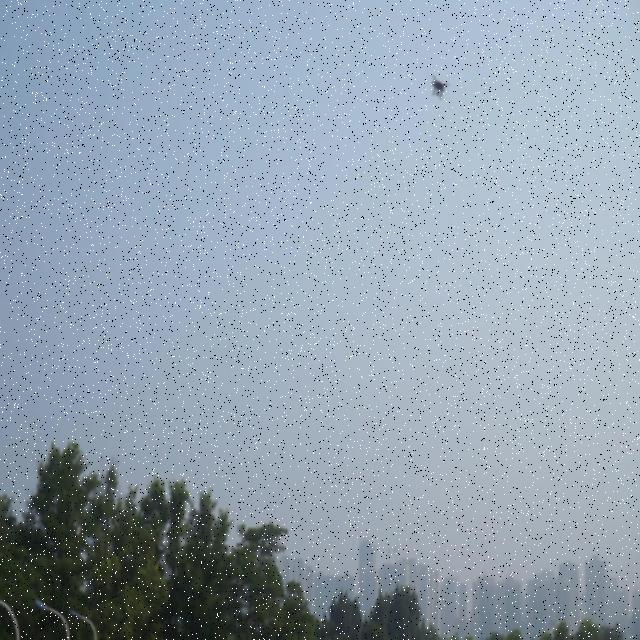UAV: (431, 75, 450, 100)
